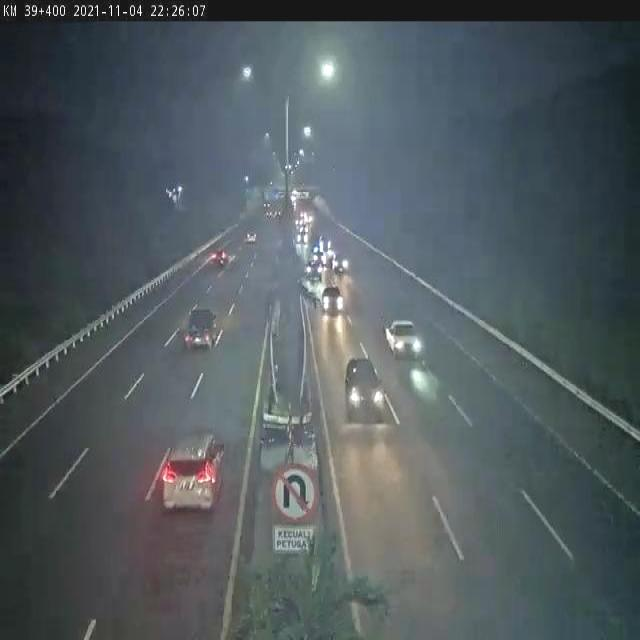Car: (152, 423, 233, 518), (341, 349, 387, 422), (384, 312, 424, 362), (208, 242, 238, 278), (323, 285, 346, 318), (331, 250, 354, 282), (304, 256, 324, 286), (314, 230, 334, 252), (244, 224, 262, 246)
Truck: (178, 300, 222, 358)
